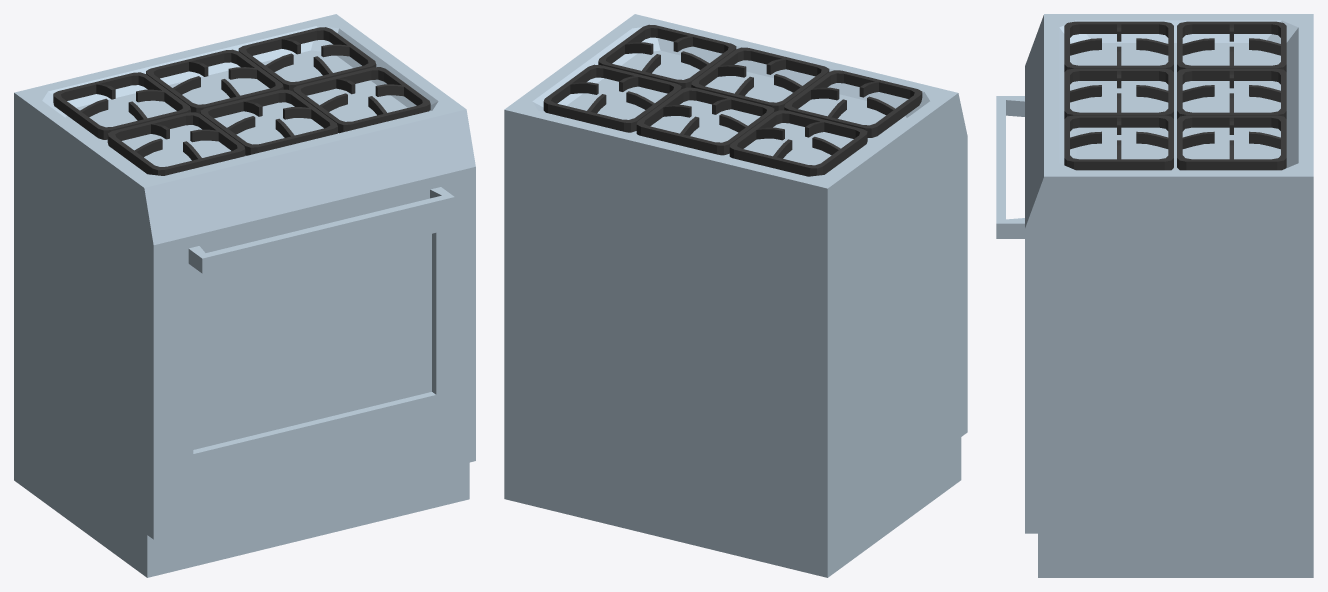
Rendered from stove.dae.
3 views of the same model, side by side, from view 1: azimuth 30°, elevation 25°; view 2: azimuth 150°, elevation 25°; view 3: azimuth 270°, elevation 25° (orthographic). The views are drawn at different scales.
Visible parts, largest first — view 1: Stove, Plane.002, Plane.001, Plane.006, Plane.004, Plane.003, Plane.005; view 2: Stove, Plane.001, Plane.005, Plane.003, Plane.002, Plane.004, Plane.006; view 3: Stove, Plane.005, Plane.006, Plane.001, Plane.002, Plane.003, Plane.004.
Boxes of the visible parts, x1,y1,x2,y2 form: Stove: [14, 14, 475, 577]; Plane.002: [107, 112, 245, 175]; Plane.001: [53, 72, 190, 139]; Plane.006: [293, 67, 430, 133]; Plane.004: [200, 89, 337, 155]; Plane.003: [146, 49, 283, 113]; Plane.005: [238, 27, 376, 91]; Stove: [504, 14, 967, 577]; Plane.001: [729, 110, 867, 176]; Plane.005: [543, 64, 681, 132]; Plane.003: [636, 87, 774, 155]; Plane.002: [784, 70, 922, 137]; Plane.004: [691, 47, 829, 111]; Plane.006: [598, 24, 736, 88]; Stove: [996, 14, 1313, 577]; Plane.005: [1177, 115, 1286, 170]; Plane.006: [1064, 115, 1173, 170]; Plane.001: [1177, 21, 1286, 71]; Plane.002: [1064, 21, 1173, 71]; Plane.003: [1177, 68, 1286, 118]; Plane.004: [1064, 68, 1173, 118].
Bounding box in the file's own units: 0.8 × 0.6593 × 0.9416.
